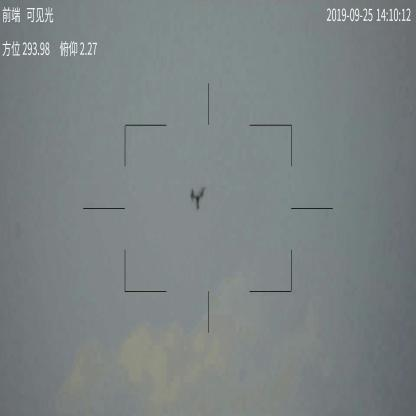uav: (189, 184, 207, 213)
